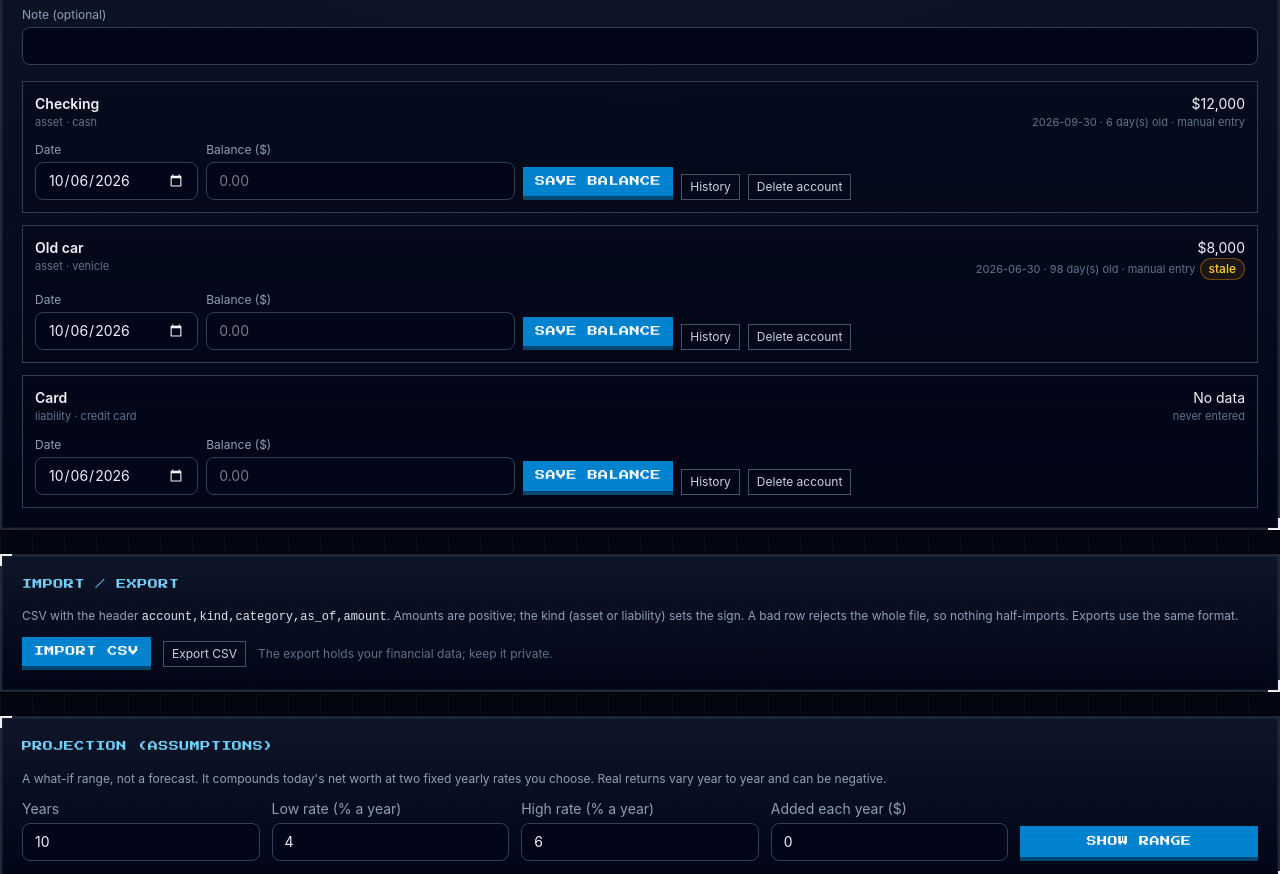
Test case: NetWorthPage › shows the projection as a labeled assumption range
The image size is (1280, 874).
(page scrolled)
Replace the text in the number field labelled "Years" with "2": (141, 842) [22,823,260,861]
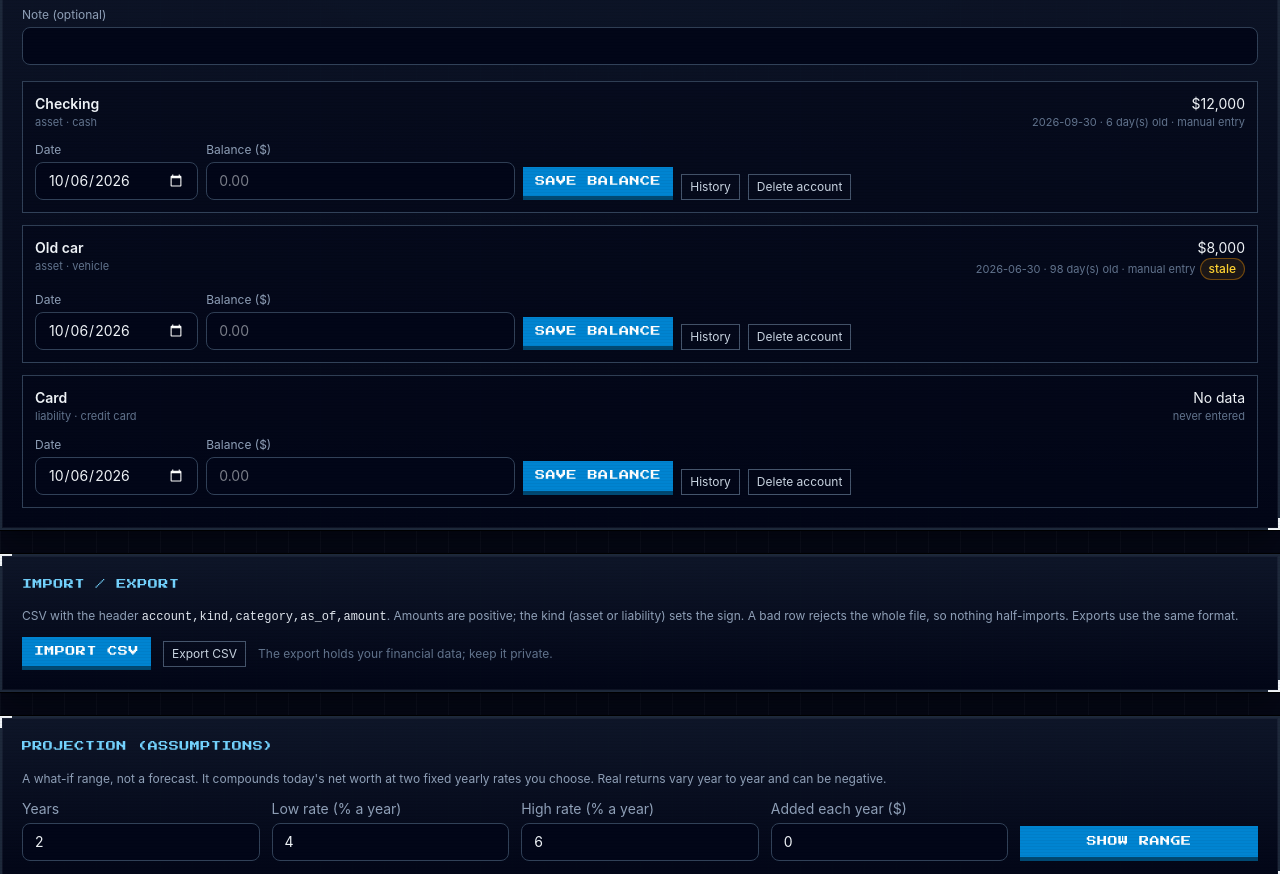
Click the button "Show range": (1139, 843) [1020,826,1258,861]
(page scrolled)
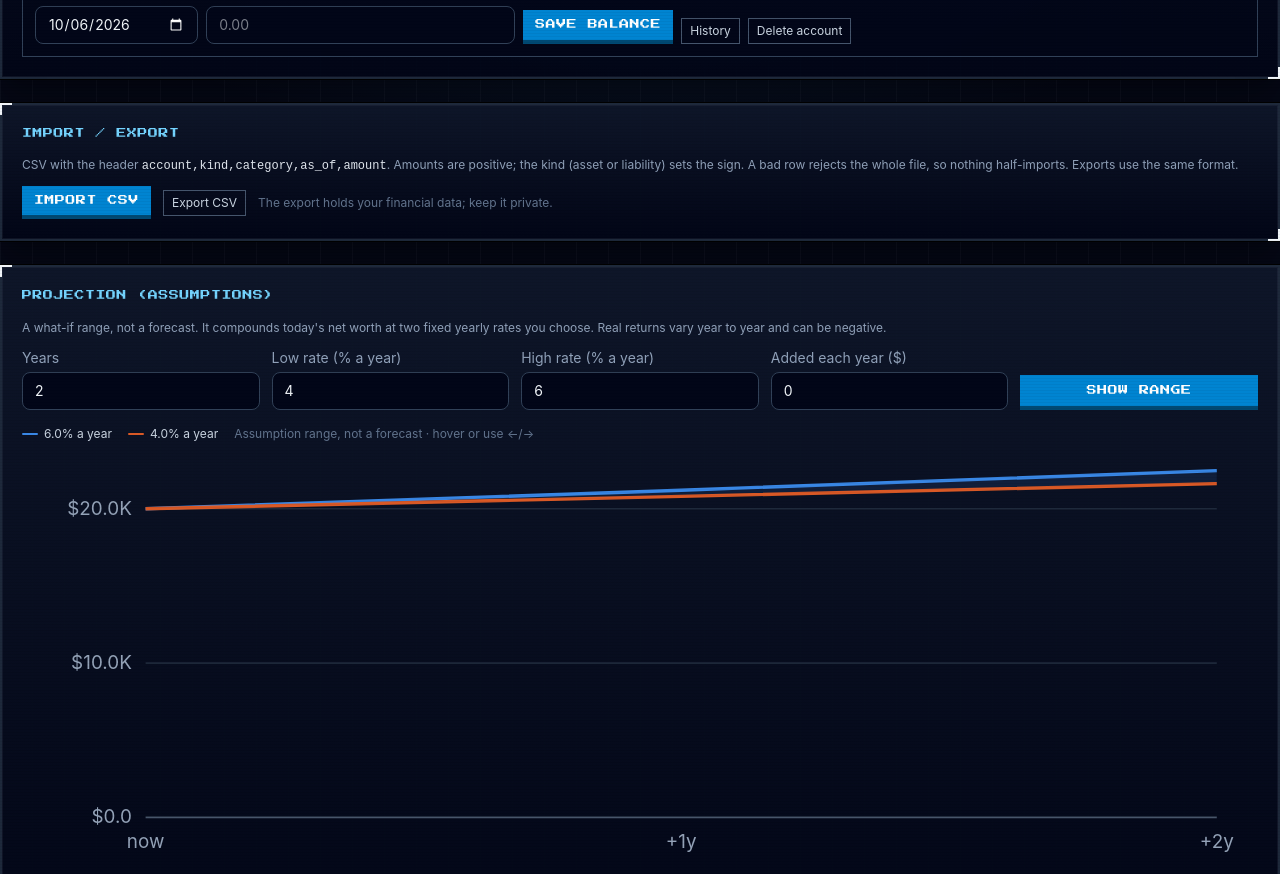
expect the text "4.0% a year" is shown: met, box [128,426,218,442]
expect the text "6.0% a year" is shown: met, box [22,426,112,442]
